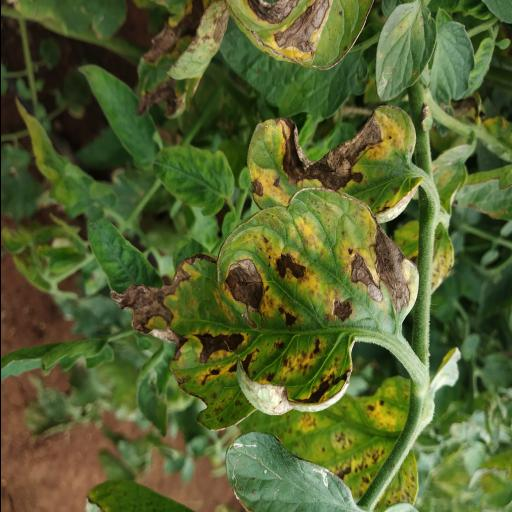Early Blight: (104, 189, 418, 430), (236, 103, 422, 218)
